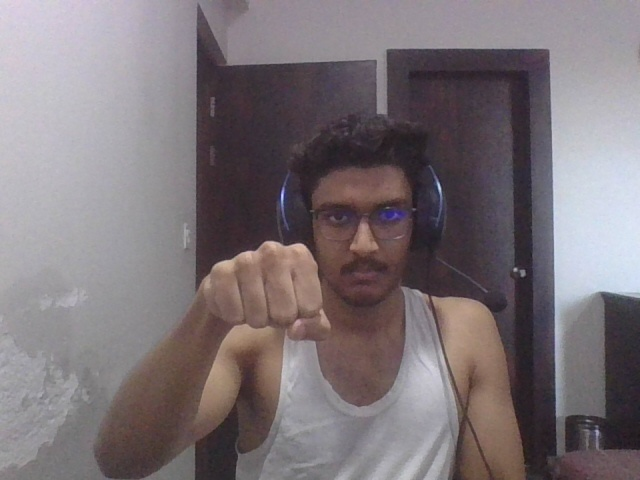Yes: (194, 232, 352, 355)
